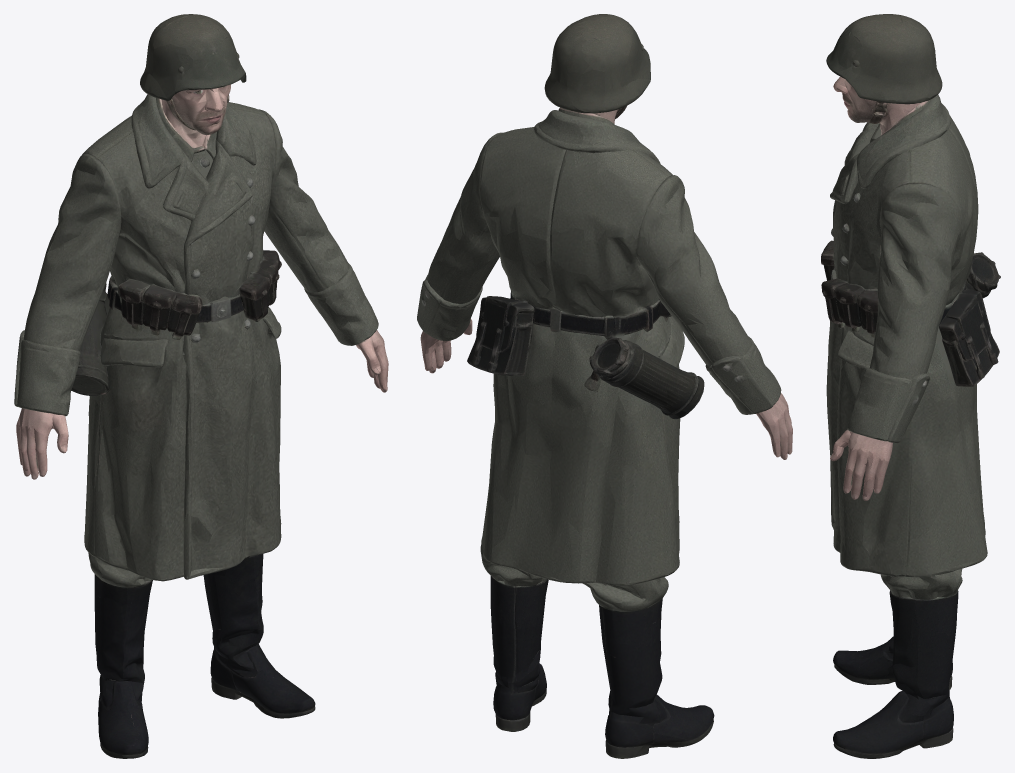
The model's file is guard_soldier.glb.
3 views of the same model, side by side, from view 1: azimuth 30°, elevation 25°; view 2: azimuth 150°, elevation 25°; view 3: azimuth 270°, elevation 25° (orthographic).
Size of the model in its own units: 1.02 by 1.9 by 0.4471.
1 material, 1 textured.
